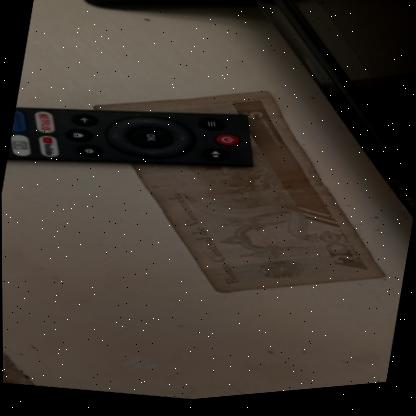five-back-vef: (61, 55, 414, 335)
